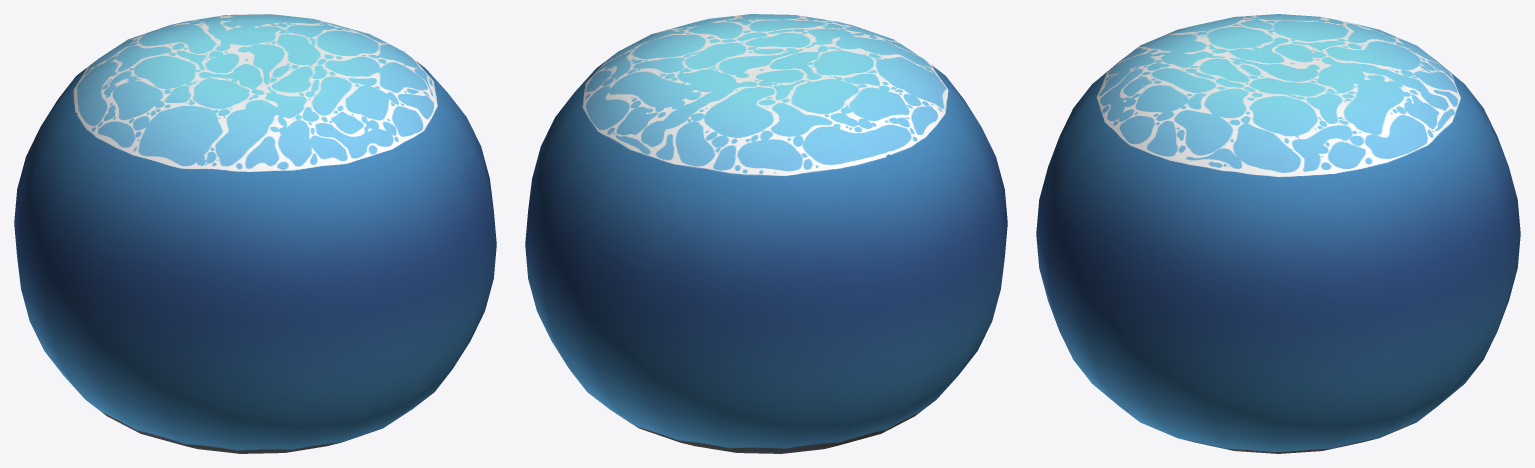
Rendered from Pond_Skybox.fbx.
3 views of the same model, side by side, from view 1: azimuth 30°, elevation 25°; view 2: azimuth 150°, elevation 25°; view 3: azimuth 270°, elevation 25° (orthographic).
Parts seen in each view (by area): view 1: Pond; view 2: Pond; view 3: Pond.
Boxes of the visible parts, x1,y1,x2,y2 form: Pond: [14, 14, 496, 453]; Pond: [525, 14, 1007, 453]; Pond: [1036, 14, 1520, 453].
Size of the model in its own units: 42.25 by 32.65 by 42.25.
1 material, 1 textured.
